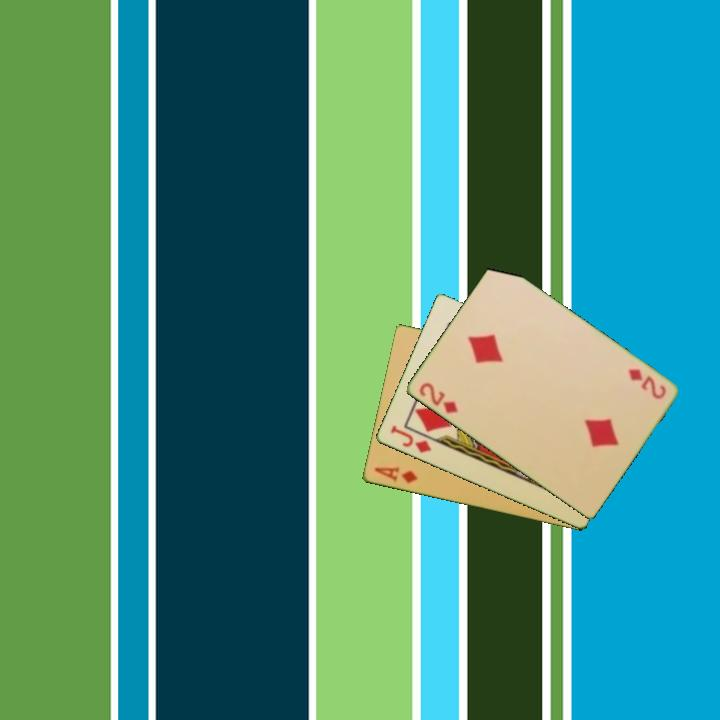2d: (415, 379, 460, 417), (624, 365, 669, 402)
Ad: (370, 463, 420, 487)
Jd: (386, 422, 434, 456)
